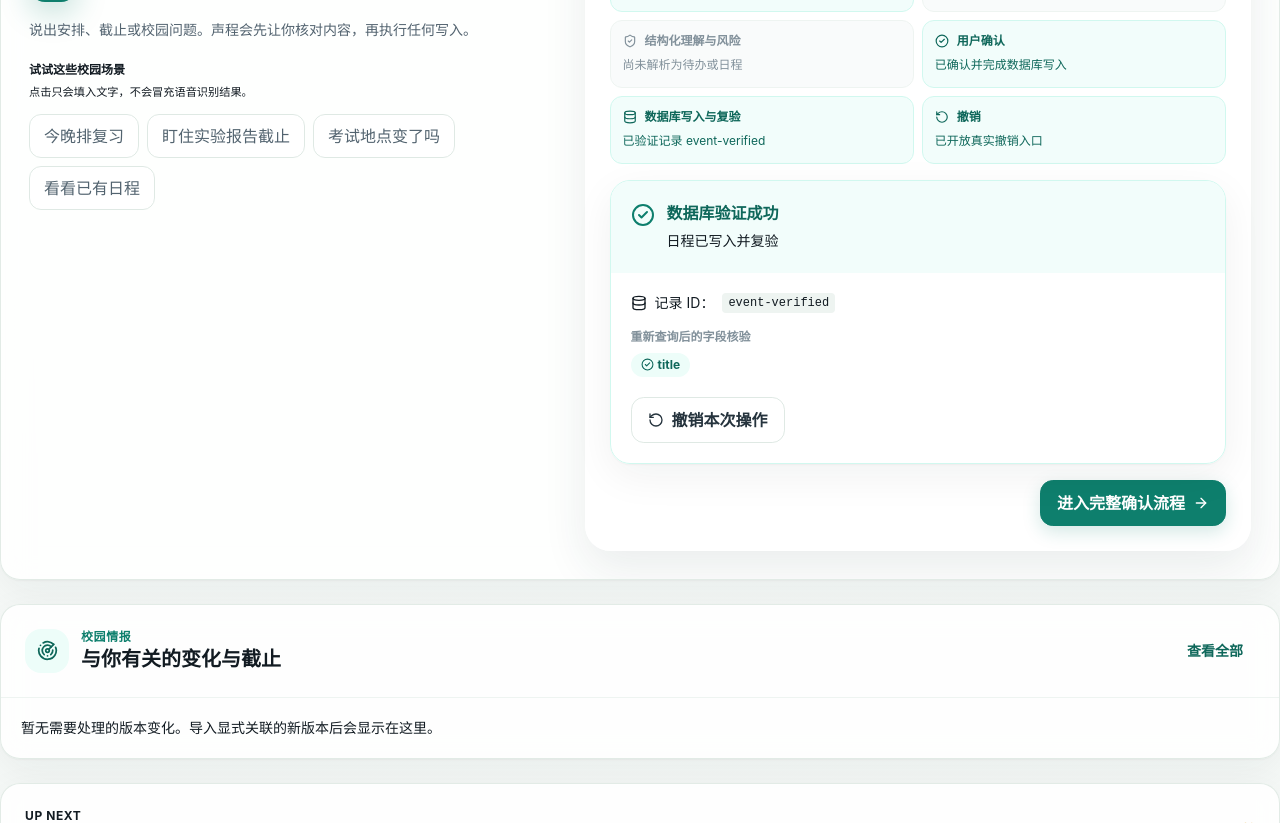
Scenario: dashboard business states › retries a transient Home undo only while its recovery id is exact
(page scrolled)
Click the button "撤销本次操作".
click(708, 420)  # box [631,397,785,443]
(page scrolled)
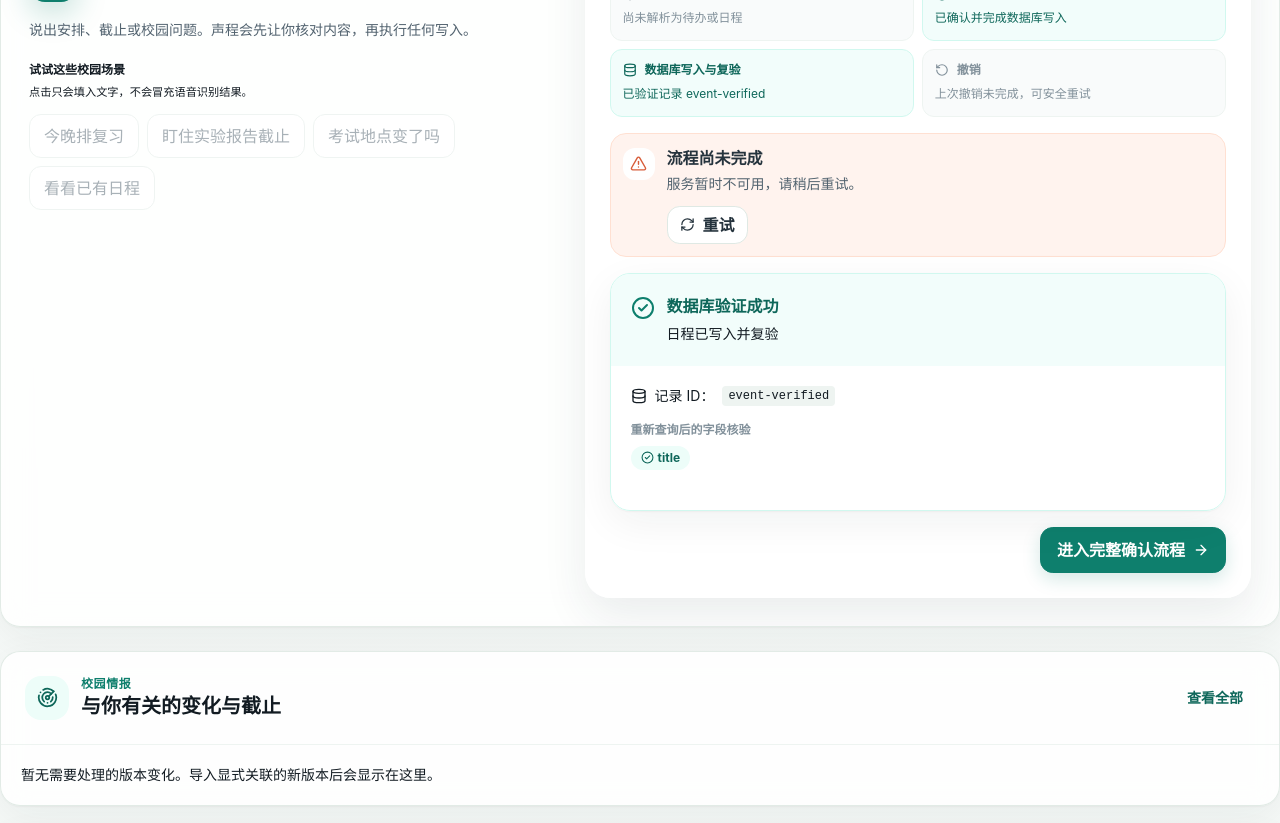
Result: the message shows "服务暂时不可用，请稍后重试。" at [667,175,863,192]
Result: the button "撤销本次操作" is gone
Click the button "重试".
click(707, 225)  # box [667,206,748,244]
(page scrolled)
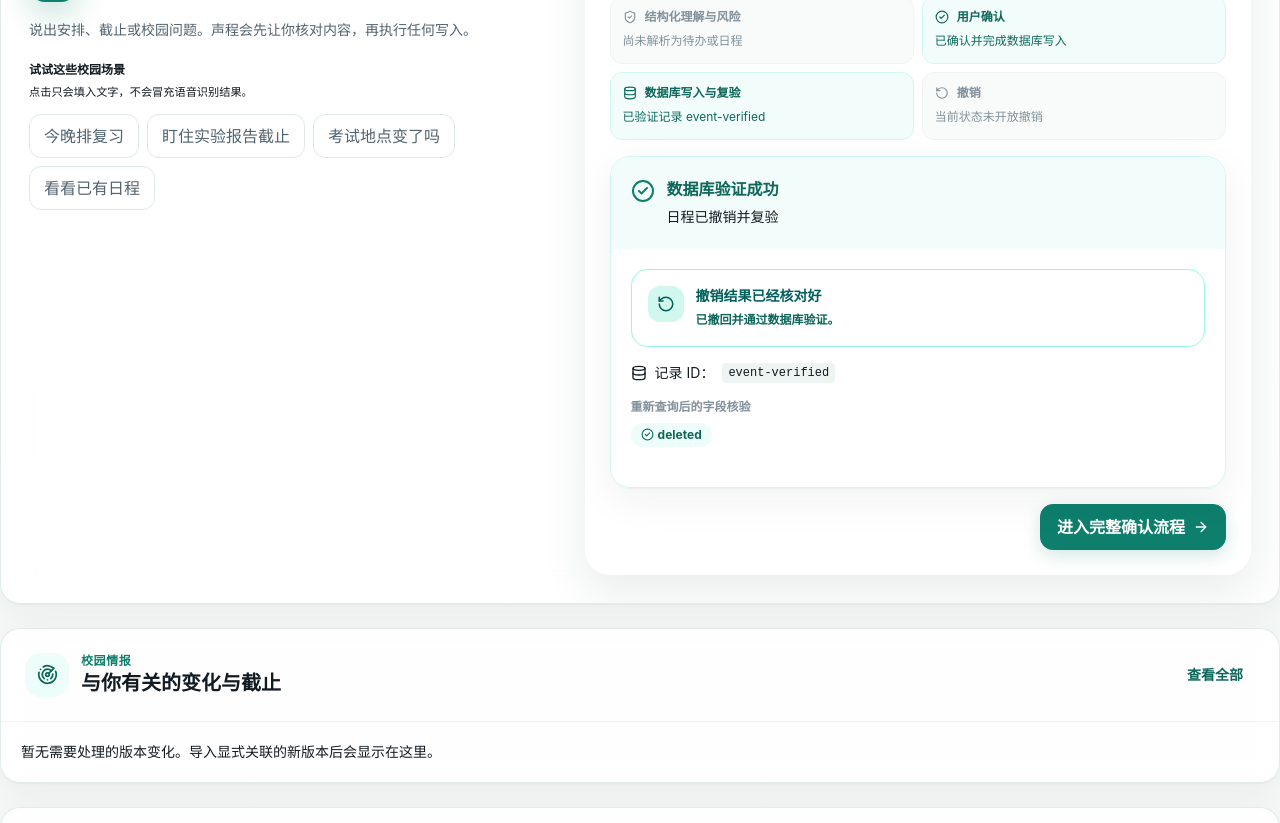
Result: the text "日程已撤销并复验" is shown at [667,205,779,229]
